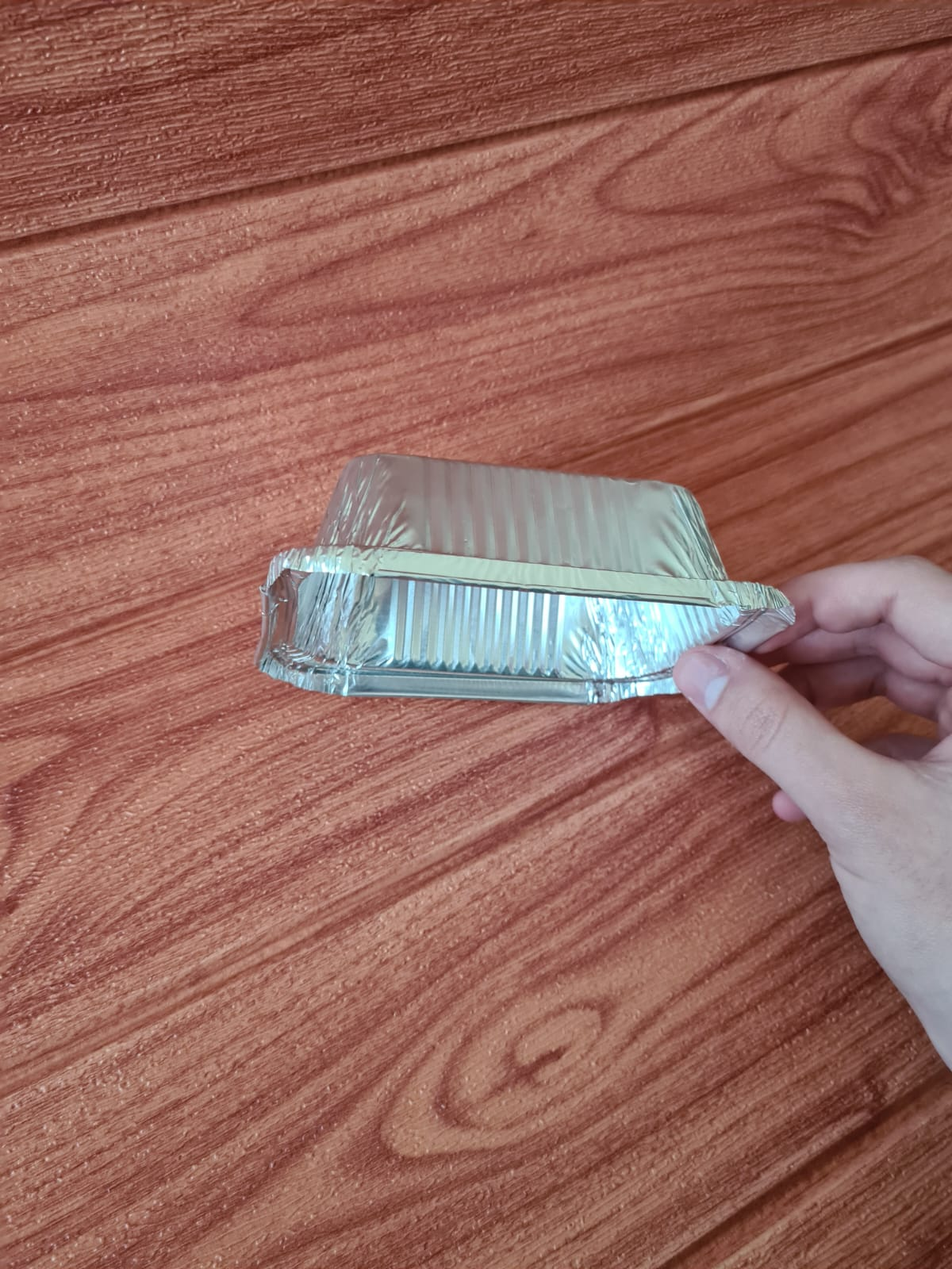Metal: (244, 458, 783, 704)
